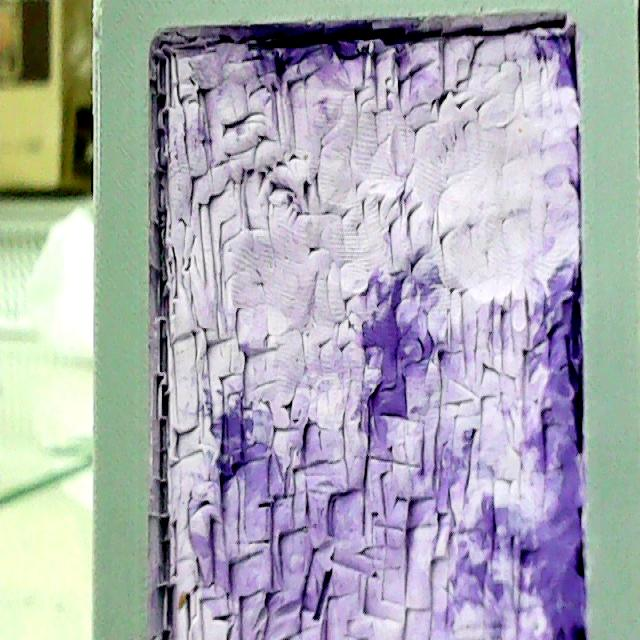block: (93, 1, 638, 630)
